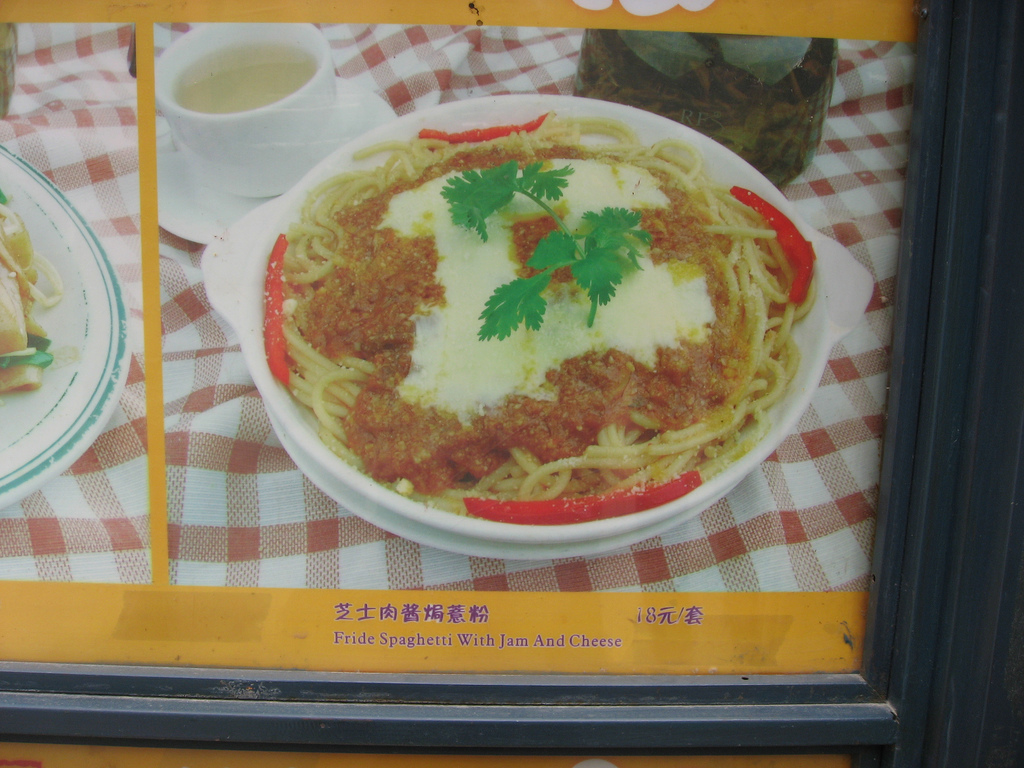plain spaghetti: (337, 161, 760, 463)
